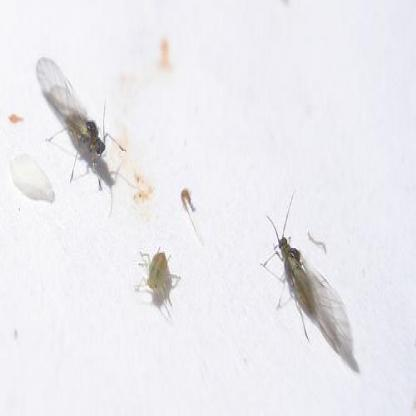aphid: (260, 200, 366, 384), (29, 58, 123, 176), (133, 238, 181, 305)
